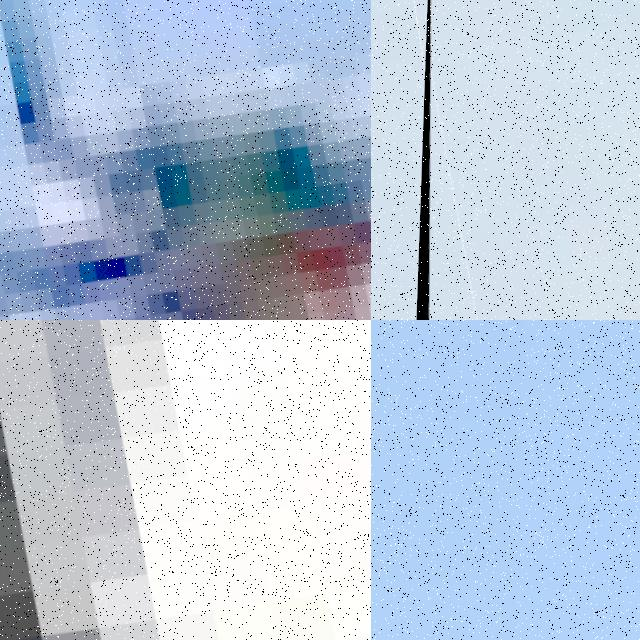drone: (0, 0, 371, 320), (0, 320, 371, 640), (409, 0, 640, 320)
